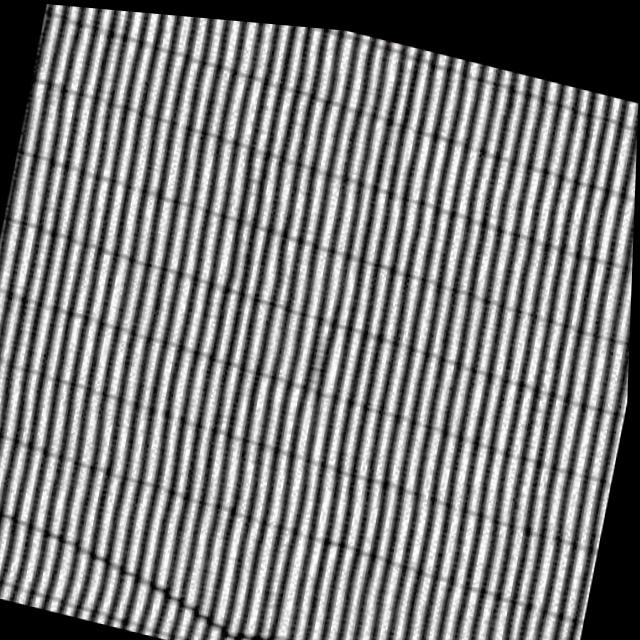Stitch: (0, 487, 440, 640)
